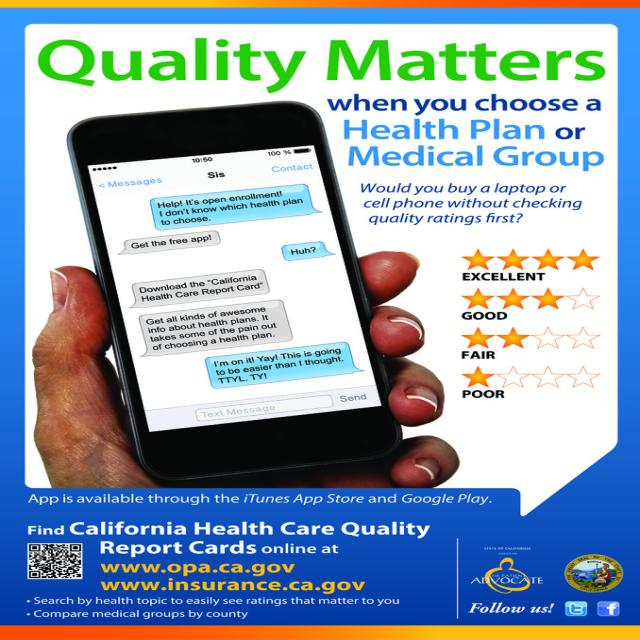Mobile-phone: (68, 99, 402, 487)
